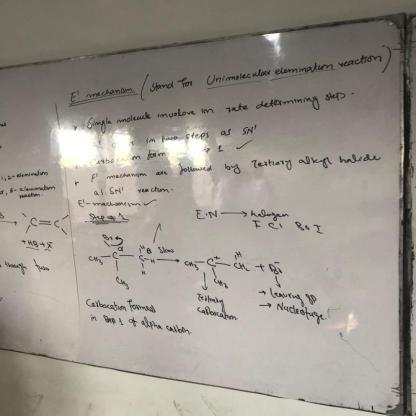Handwritten text: (102, 140, 386, 196), (81, 81, 355, 133), (144, 47, 385, 95), (77, 293, 164, 318)
Whiteboard: (0, 14, 405, 416)
